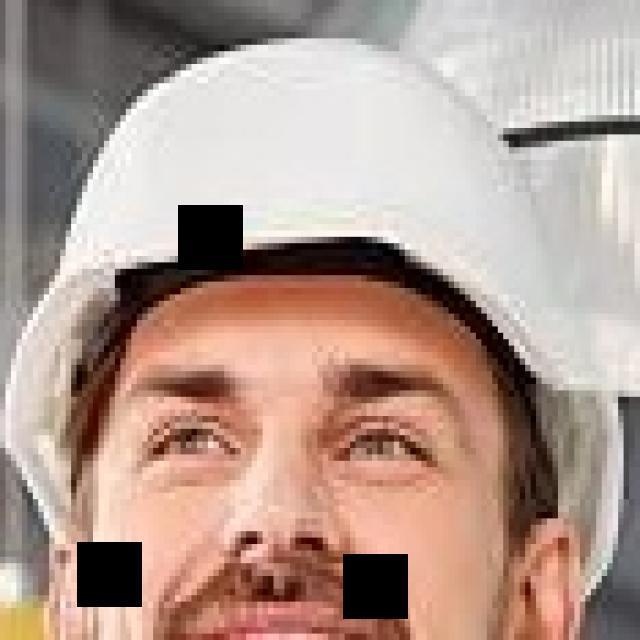white helmet: (20, 40, 586, 400)
